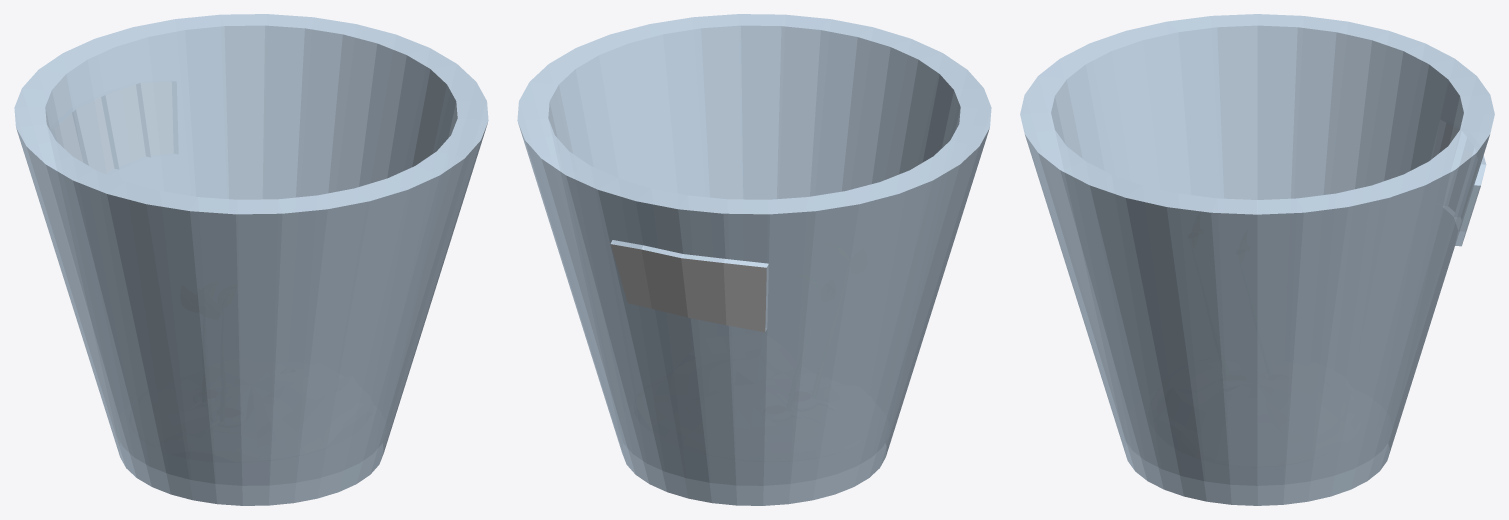
Rendered from planta11.glb.
The picture shows the model from 3 angles, left to right: view 1: azimuth 30°, elevation 25°; view 2: azimuth 150°, elevation 25°; view 3: azimuth 270°, elevation 25°; orthographic projection.
Parts seen in each view (by area): view 1: Cilindro; view 2: Cilindro; view 3: Cilindro.
Part boxes in pixels (bbox=[...]): Cilindro: bbox=[14, 14, 488, 505]; Cilindro: bbox=[517, 14, 991, 505]; Cilindro: bbox=[1020, 14, 1494, 505].
Size of the model in its own units: 4.14 by 3.24 by 4.14.
